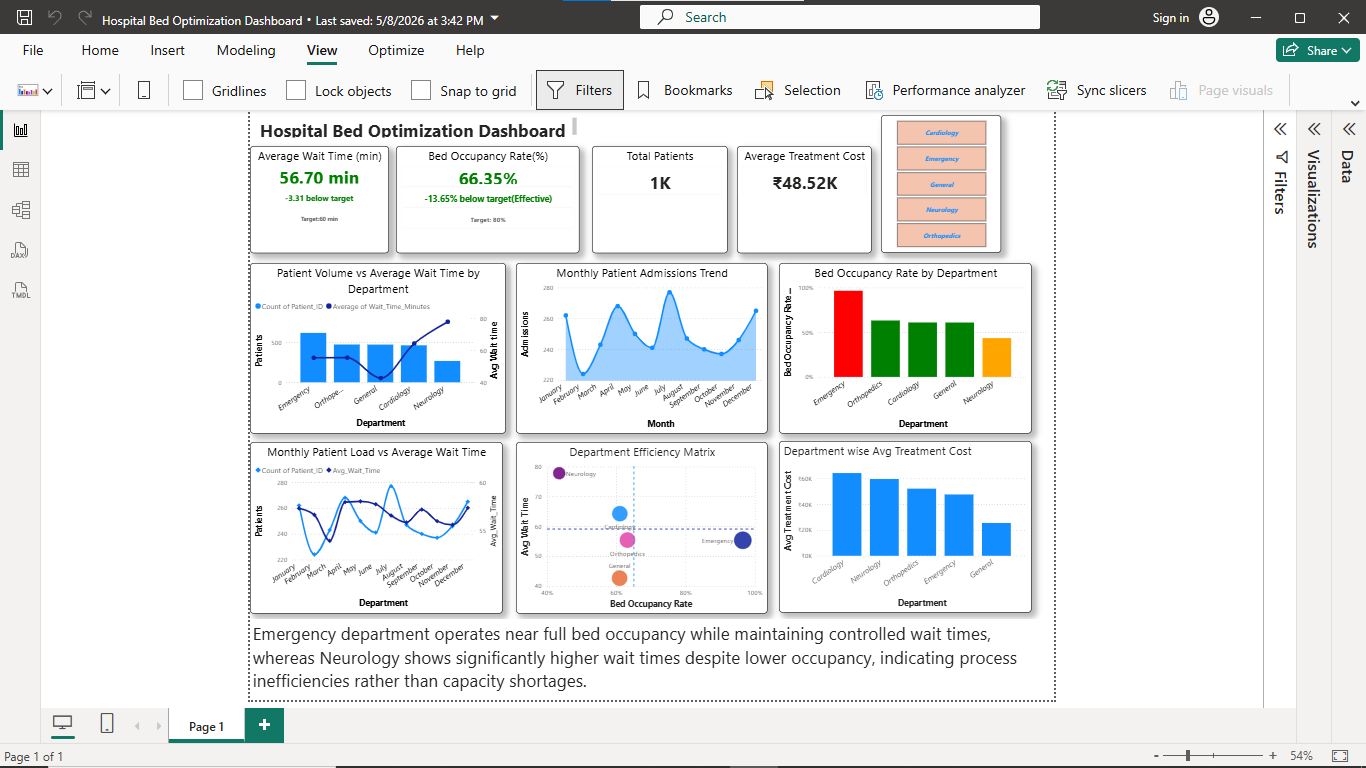

Layout of this report page (visuals, bound fields, positions):
{"tool":"powerbi","page":{"name":"Page 1","canvas":[1500,1100],"ordinal":0},"visuals":[{"type":"cardVisual","title":"Average Wait Time (min)","fields":{"Data":["hospital_dataset_repeated_patients.Avg_Wait_Time_Text","hospital_dataset_repeated_patients.Wait Time Display","hospital_dataset_repeated_patients.Target_wait_time_text"]},"box":[0,67.2,258.7,199.6],"z":0},{"type":"cardVisual","title":"Total Patients","fields":{"Data":["hospital_dataset_repeated_patients.Total_Patients"]},"box":[637.6,67.2,252.6,199.6],"z":1000},{"type":"cardVisual","title":"Bed Occupancy Rate(%)","fields":{"Data":["hospital_dataset_repeated_patients.Bed_Occupancy_Rate","hospital_dataset_repeated_patients.BOR_Display","hospital_dataset_repeated_patients.Target_BOR_Text"]},"box":[273,67.2,342.2,199.6],"z":2000},{"type":"cardVisual","title":"Average Treatment Cost","fields":{"Data":["hospital_dataset_repeated_patients.Avg_Treatment_Cost"]},"box":[908.2,67.3,251,200],"z":3000},{"type":"lineStackedColumnComboChart","title":"Patient Volume vs Average Wait Time by Department","fields":{"Category":["hospital_dataset_repeated_patients.Department"],"Y2":["Avg(hospital_dataset_repeated_patients.Wait_Time_Minutes)"],"Y":["Count(hospital_dataset_repeated_patients.Patient_ID)"]},"box":[0,285.2,476.7,317.8],"z":4000},{"type":"stackedAreaChart","title":"Monthly Patient Admissions Trend","fields":{"Y":["CountNonNull(hospital_dataset_repeated_patients.Admission_Date)"],"Category":["hospital_dataset_repeated_patients.Admission_Date.Variation.Date Hierarchy.Month"]},"box":[495.9,285.7,469.4,318.4],"z":5000},{"type":"textbox","box":[13.3,9.3,601.3,46.7],"z":6000},{"type":"columnChart","title":"Bed Occupancy Rate by Department","fields":{"Y":["hospital_dataset_repeated_patients.Bed_Occupancy_Rate"],"Category":["hospital_dataset_repeated_patients.Department"]},"box":[985.7,285.7,471.4,318.4],"z":7000},{"type":"lineChart","title":"Monthly Patient Load vs Average Wait Time","fields":{"Y":["CountNonNull(hospital_dataset_repeated_patients.Patient_ID)"],"Y2":["hospital_dataset_repeated_patients.Avg_Wait_Time"],"Category":["hospital_dataset_repeated_patients.Admission_Date.Variation.Date Hierarchy.Month"]},"box":[0,619.3,470.6,319.8],"z":8000},{"type":"scatterChart","title":"Department Efficiency Matrix","fields":{"X":["hospital_dataset_repeated_patients.Bed_Occupancy_Rate"],"Y":["hospital_dataset_repeated_patients.Avg_Wait_Time"],"Size":["hospital_dataset_repeated_patients.Total_Patients"],"Series":["hospital_dataset_repeated_patients.Department"]},"box":[495.9,618.4,469.4,320.4],"z":9000},{"type":"slicer","fields":{"Values":["hospital_dataset_repeated_patients.Department"]},"box":[1175.5,10.2,224.5,257.1],"z":10000},{"type":"lineStackedColumnComboChart","title":"Department wise Avg Treatment Cost","fields":{"Category":["hospital_dataset_repeated_patients.Department"],"Y":["hospital_dataset_repeated_patients.Avg_Treatment_Cost"]},"box":[986,618,471,320],"z":11000},{"type":"textbox","box":[0,949.3,1476.9,150.7],"z":11001}]}

Visuals, with their boxes on the page's 1500x1100 design canvas (x1, y1, x2, y2). These are canvas units, not pixel positions in the 1366x768 screenshot, which may show the page scaled, cropped or inside an application window:
"Average Wait Time (min)" cardVisual: 0 67 259 267
"Total Patients" cardVisual: 638 67 890 267
"Bed Occupancy Rate(%)" cardVisual: 273 67 615 267
"Average Treatment Cost" cardVisual: 908 67 1159 267
"Patient Volume vs Average Wait Time by Department" lineStackedColumnComboChart: 0 285 477 603
"Monthly Patient Admissions Trend" stackedAreaChart: 496 286 965 604
textbox: 13 9 615 56
"Bed Occupancy Rate by Department" columnChart: 986 286 1457 604
"Monthly Patient Load vs Average Wait Time" lineChart: 0 619 471 939
"Department Efficiency Matrix" scatterChart: 496 618 965 939
slicer - hospital_dataset_repeated_patients.Department: 1176 10 1400 267
"Department wise Avg Treatment Cost" lineStackedColumnComboChart: 986 618 1457 938
textbox: 0 949 1477 1100
